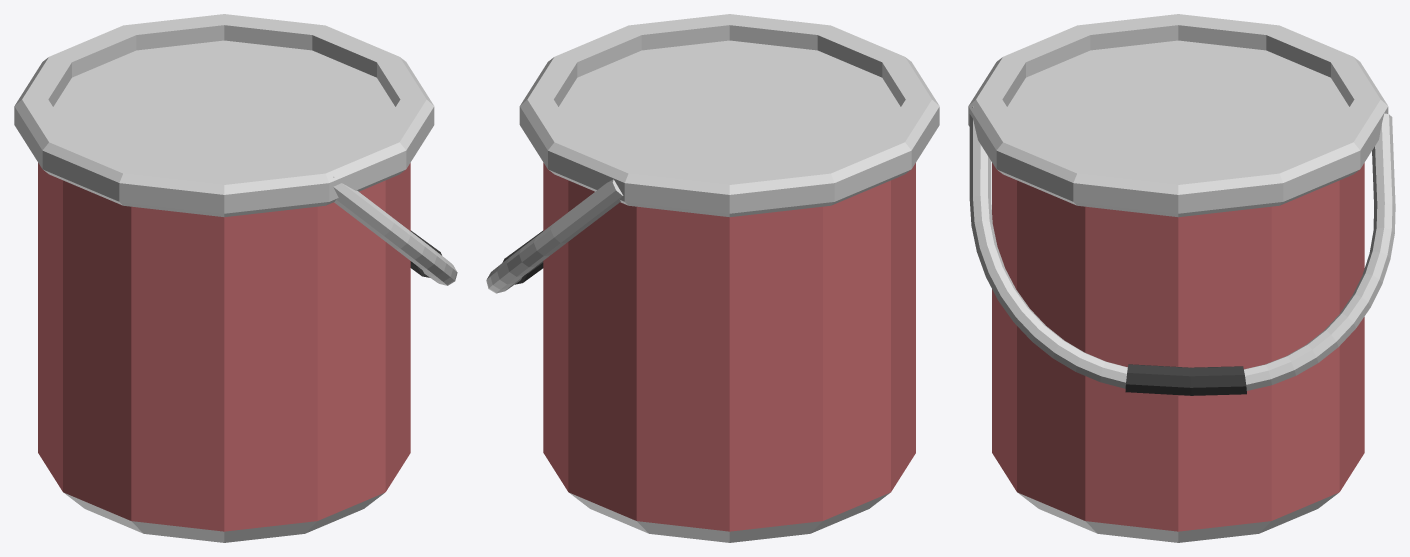
The model's file is Paint Bucket.fbx.
3 renders of one model, left to right at view 1: azimuth 30°, elevation 25°; view 2: azimuth 150°, elevation 25°; view 3: azimuth 270°, elevation 25°, orthographic.
Visible parts, largest first — view 1: Paint Bucket; view 2: Paint Bucket; view 3: Paint Bucket.
Part boxes in pixels (x1,y1,x2,y2): Paint Bucket: [14, 14, 457, 542]; Paint Bucket: [486, 14, 939, 542]; Paint Bucket: [968, 14, 1395, 542].
Size of the model in its own units: 53.79 by 50.93 by 52.55.
